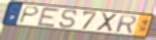7: (81, 10, 99, 30)
E: (36, 6, 62, 28)
P: (17, 5, 41, 25)
R: (115, 14, 138, 34)
S: (58, 9, 79, 30)
X: (95, 12, 119, 33)
